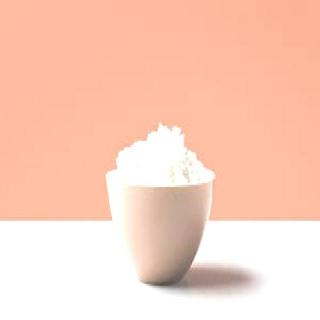Nasi: (108, 122, 214, 188)
